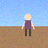person: (22, 14, 34, 36)
